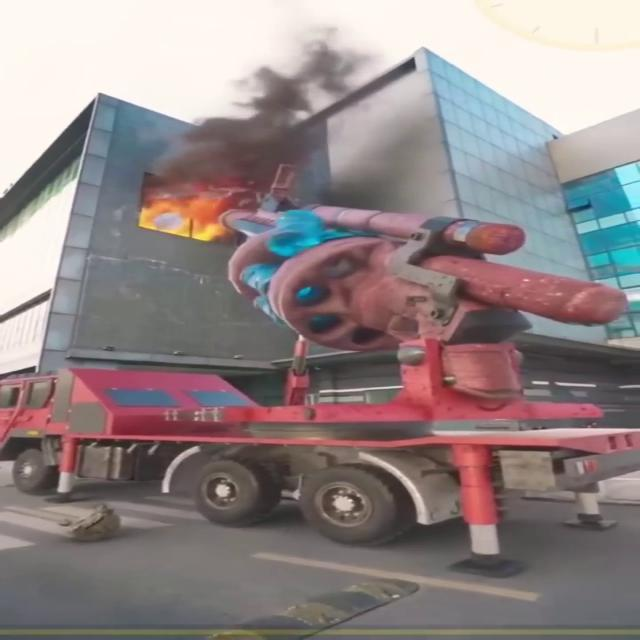Fire: (134, 182, 237, 244)
Smoke: (164, 29, 378, 187)
